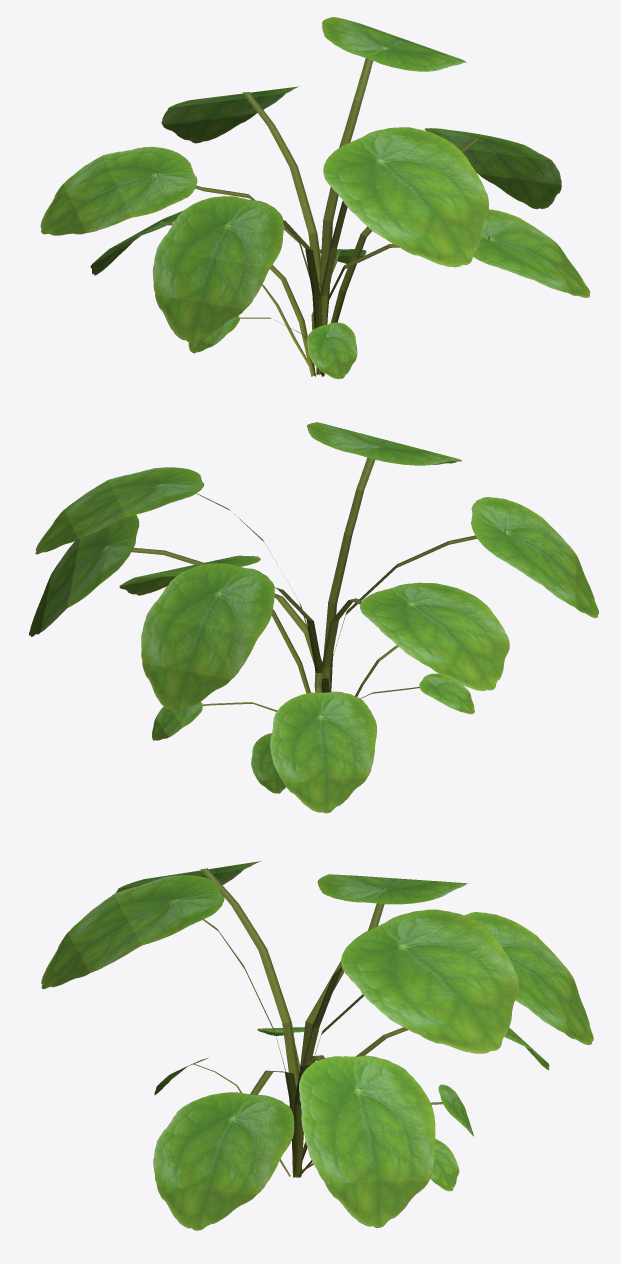
Rendered from Pilea2.fbx.
3 renders of one model, top to bottom at view 1: azimuth 30°, elevation 25°; view 2: azimuth 150°, elevation 25°; view 3: azimuth 270°, elevation 25°, orthographic. The views are drawn at different scales.
Parts seen in each view (by area): view 1: Pilea2; view 2: Pilea2; view 3: Pilea2.
Boxes of the visible parts, <box> form: Pilea2: <box>40,17,590,379</box>; Pilea2: <box>29,422,598,813</box>; Pilea2: <box>41,861,593,1230</box>.
Size of the model in its own units: 182 by 92.06 by 159.
